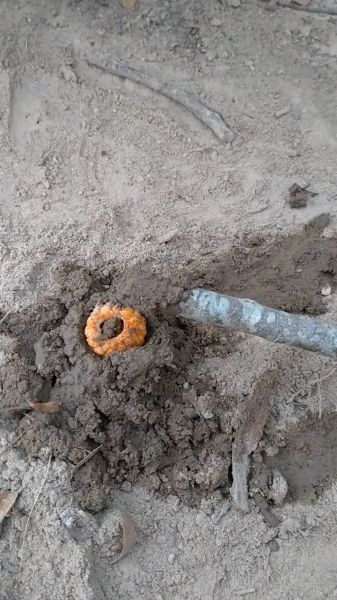eggs: (80, 296, 155, 361)
